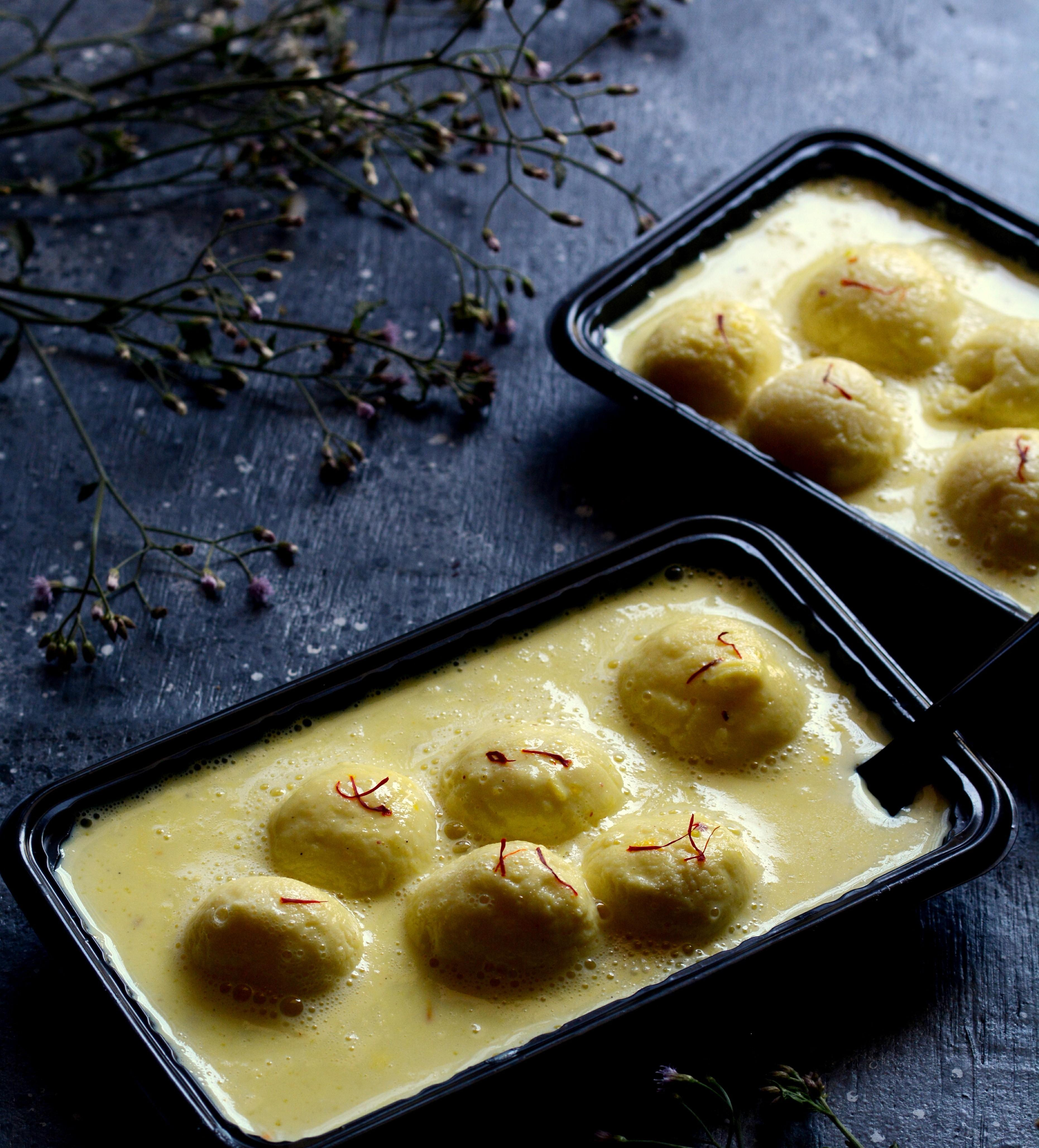RasMalai: (46, 578, 963, 1141), (604, 157, 1039, 613)
